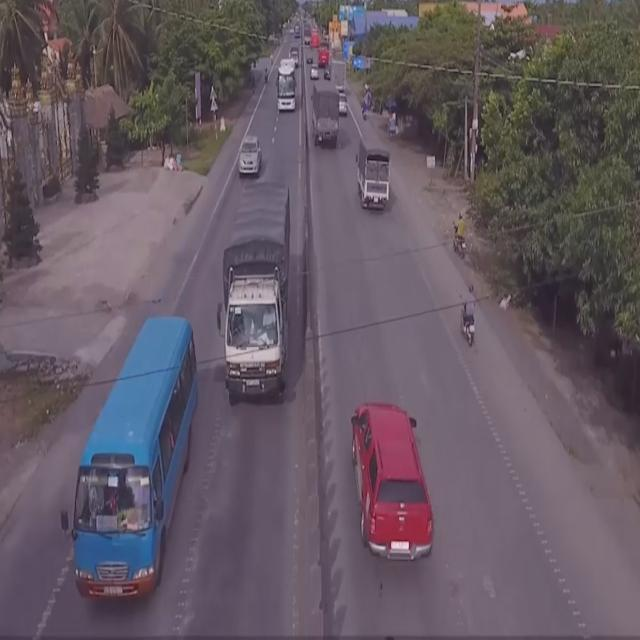bus: (69, 316, 199, 606), (276, 58, 298, 110)
car: (348, 397, 436, 567), (238, 132, 262, 174)
motorbike: (461, 283, 482, 350), (452, 213, 468, 261)
truck: (218, 185, 292, 411), (356, 140, 393, 217), (310, 85, 343, 152)
